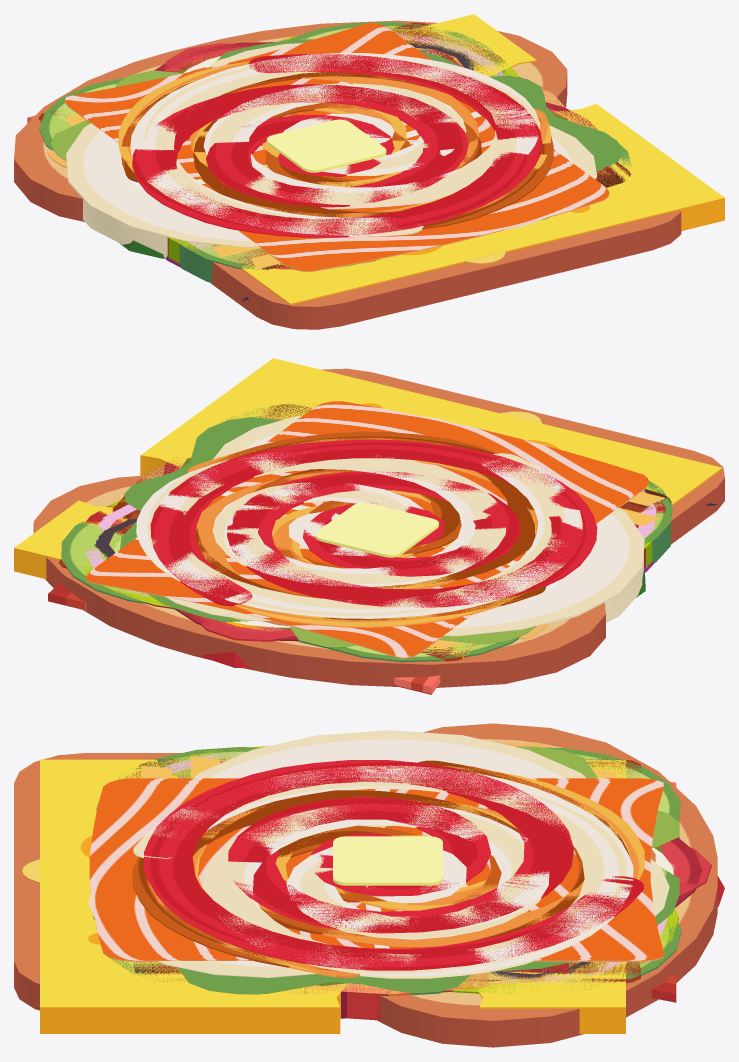
The picture shows the model from 3 angles, top to bottom: view 1: azimuth 30°, elevation 25°; view 2: azimuth 150°, elevation 25°; view 3: azimuth 270°, elevation 25°; orthographic projection. The views are drawn at different scales.
Parts seen in each view (by area): view 1: Ketchup_Slice, Mayo_Slice, Bread_Slice, Cheese_Slice, Salmon_Slice, Egg_Slice, BBQ_Sauce_Slice, Mustard_Slice, Cucumber_Slice, Lettuce_Slice, Melted_Butter, Ribs_Slice (+6 smaller); view 2: Ketchup_Slice, Mayo_Slice, Bread_Slice, Cheese_Slice, Salmon_Slice, Egg_Slice, BBQ_Sauce_Slice, Mustard_Slice, Cucumber_Slice, Lettuce_Slice, Melted_Butter, Pepper_Slice (+7 smaller); view 3: Ketchup_Slice, Cheese_Slice, Mayo_Slice, Salmon_Slice, Bread_Slice, Egg_Slice, BBQ_Sauce_Slice, Mustard_Slice, Lettuce_Slice, Melted_Butter, Cucumber_Slice, Ribs_Slice (+9 smaller).
Boxes of the visible parts, bbox=[...] form: Ketchup_Slice: bbox=[132, 53, 542, 237]; Mayo_Slice: bbox=[130, 53, 539, 236]; Bread_Slice: bbox=[14, 20, 681, 329]; Cheese_Slice: bbox=[39, 14, 724, 304]; Salmon_Slice: bbox=[64, 22, 609, 271]; Egg_Slice: bbox=[66, 43, 597, 258]; BBQ_Sauce_Slice: bbox=[121, 72, 553, 229]; Mustard_Slice: bbox=[118, 61, 551, 217]; Cucumber_Slice: bbox=[39, 21, 632, 282]; Lettuce_Slice: bbox=[50, 39, 623, 220]; Melted_Butter: bbox=[266, 119, 386, 172]; Ribs_Slice: bbox=[38, 22, 631, 269]; Ketchup_Slice: bbox=[150, 439, 597, 607]; Mayo_Slice: bbox=[136, 451, 582, 618]; Bread_Slice: bbox=[33, 368, 724, 687]; Cheese_Slice: bbox=[14, 358, 722, 658]; Salmon_Slice: bbox=[85, 401, 648, 658]; Egg_Slice: bbox=[165, 415, 644, 636]; BBQ_Sauce_Slice: bbox=[195, 431, 545, 620]; Mustard_Slice: bbox=[187, 438, 538, 627]; Cucumber_Slice: bbox=[61, 403, 672, 662]; Lettuce_Slice: bbox=[120, 417, 535, 648]; Melted_Butter: bbox=[315, 502, 438, 557]; Pepper_Slice: bbox=[193, 571, 645, 668]; Ketchup_Slice: bbox=[144, 760, 643, 970]; Cheese_Slice: bbox=[40, 759, 625, 1033]; Mayo_Slice: bbox=[133, 765, 633, 978]; Salmon_Slice: bbox=[89, 778, 663, 961]; Bread_Slice: bbox=[14, 723, 717, 1047]; Egg_Slice: bbox=[88, 730, 669, 977]; BBQ_Sauce_Slice: bbox=[132, 760, 630, 970]; Mustard_Slice: bbox=[148, 766, 644, 978]; Lettuce_Slice: bbox=[93, 746, 679, 994]; Melted_Butter: bbox=[333, 836, 442, 885]; Cucumber_Slice: bbox=[96, 747, 681, 994]; Ribs_Slice: bbox=[134, 759, 641, 982].
Bounding box in the file's own units: 0.2402 × 0.0127 × 0.2426.
Materials: 34 (34 with a texture image).
